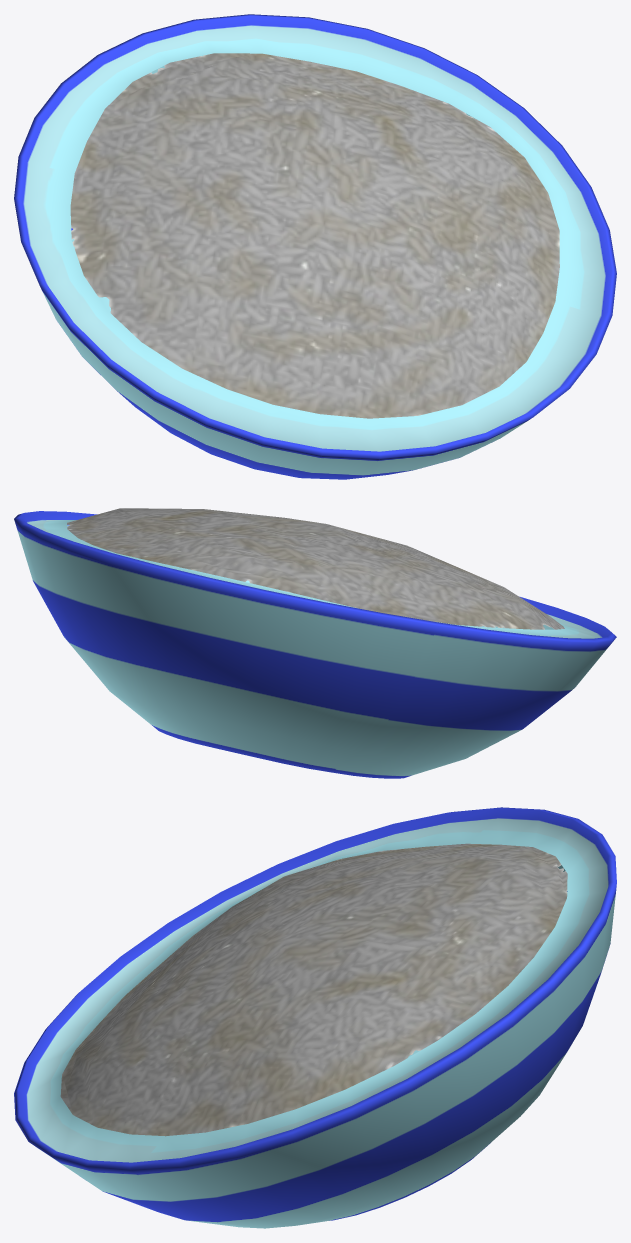
The model's file is Rice.fbx.
3 views of the same model, one above another, from view 1: azimuth 30°, elevation 25°; view 2: azimuth 150°, elevation 25°; view 3: azimuth 270°, elevation 25° (orthographic). The views are drawn at different scales.
Parts seen in each view (by area): view 1: arroz.002; view 2: arroz.002; view 3: arroz.002.
Part boxes in pixels (bbox=[...]): arroz.002: bbox=[14, 14, 616, 479]; arroz.002: bbox=[14, 508, 616, 778]; arroz.002: bbox=[14, 807, 616, 1228].
Bounding box in the file's own units: 86.91 × 47.29 × 80.03.
Materials: 1 (1 with a texture image).
